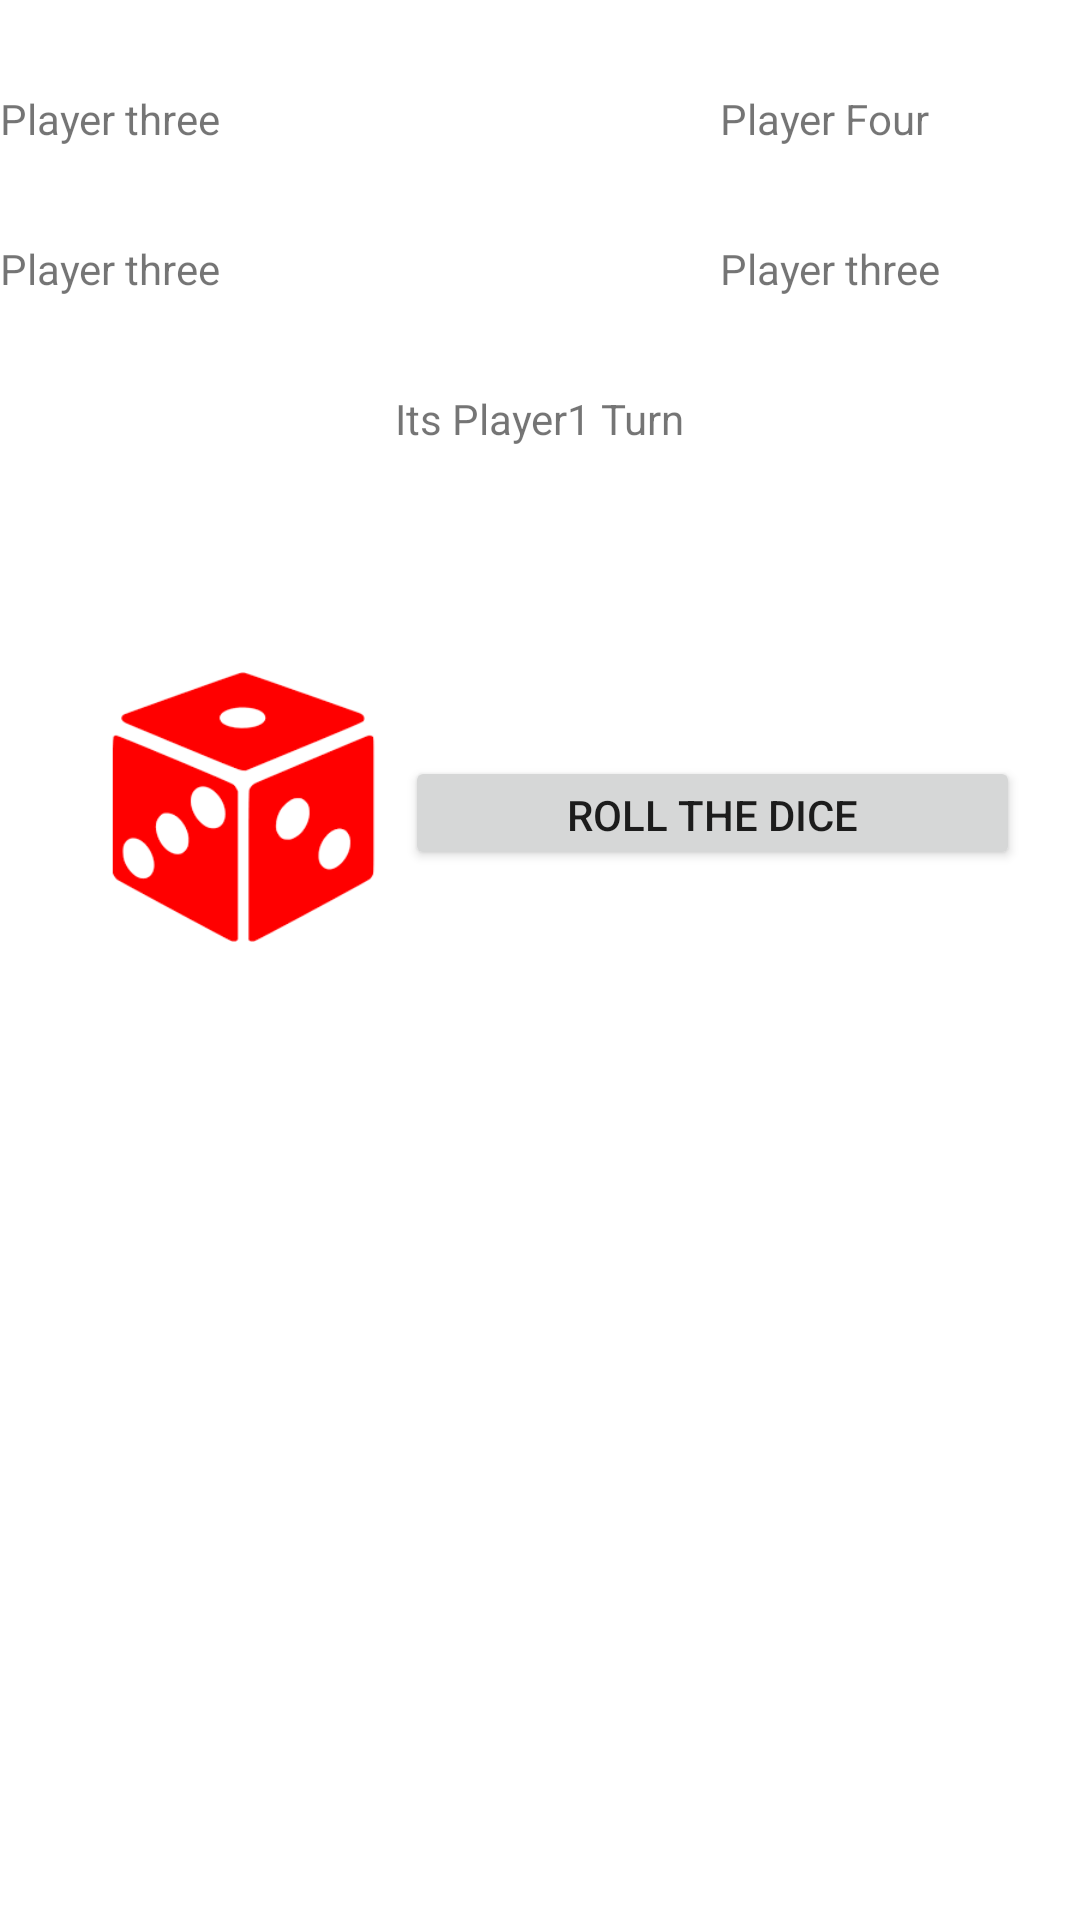

Screen size 1080x1920. Icon name, then its box in pixels as (x1, y1, x2, y2):
die picture: (112, 672, 375, 942)
